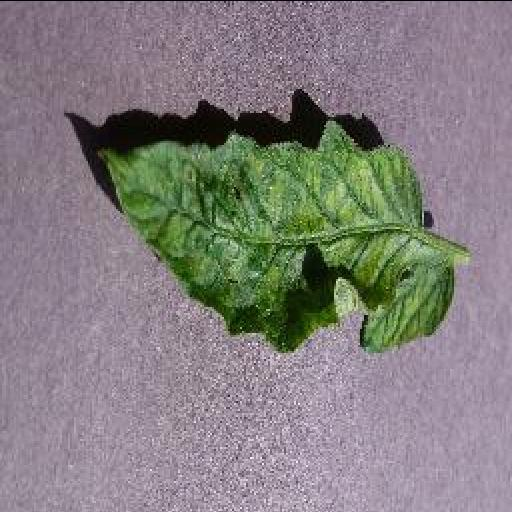Mosaic Virus: (97, 117, 455, 355)
